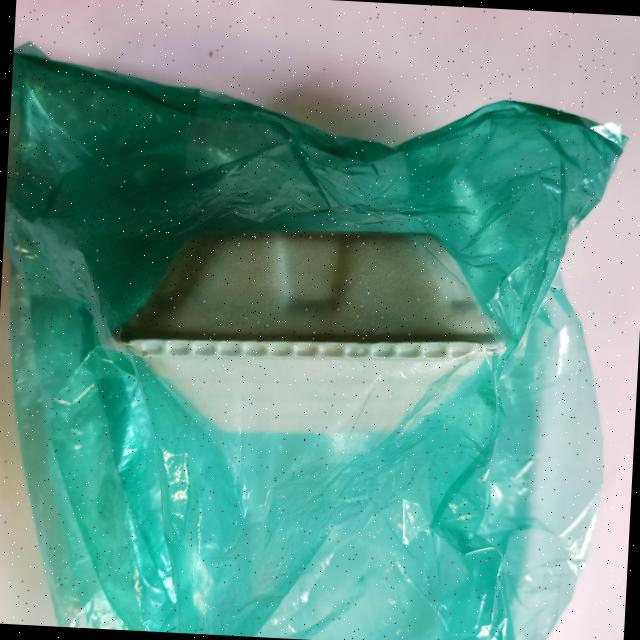styrofoam: (0, 39, 632, 640)
